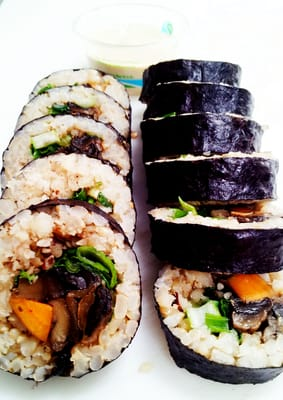soup: (0, 64, 143, 394), (1, 68, 137, 240)
